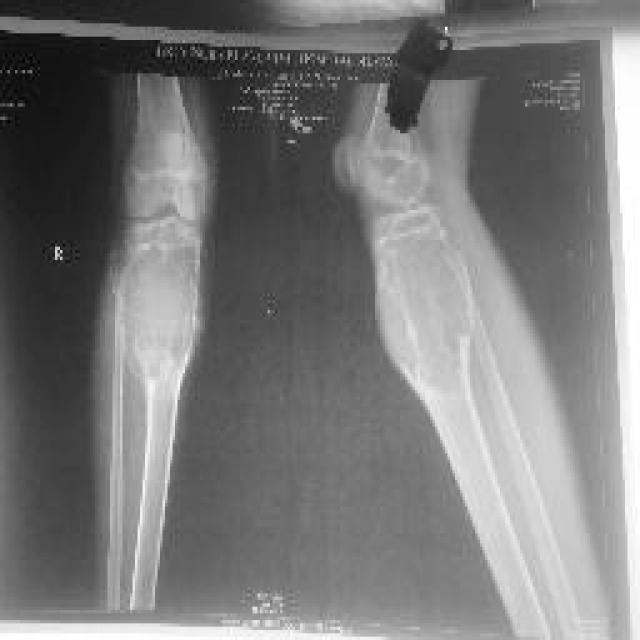bone-cancer: (369, 203, 490, 409), (119, 215, 202, 401)
